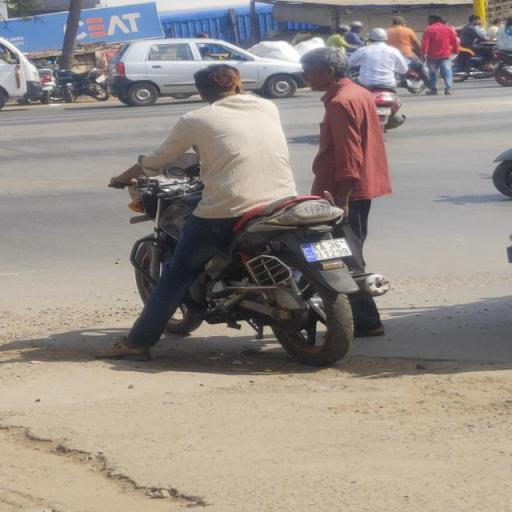bike: (96, 64, 374, 368)
numberplate: (299, 231, 355, 265)
withouthelmet: (196, 64, 238, 96)
